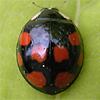Rash: (15, 0, 84, 94)
